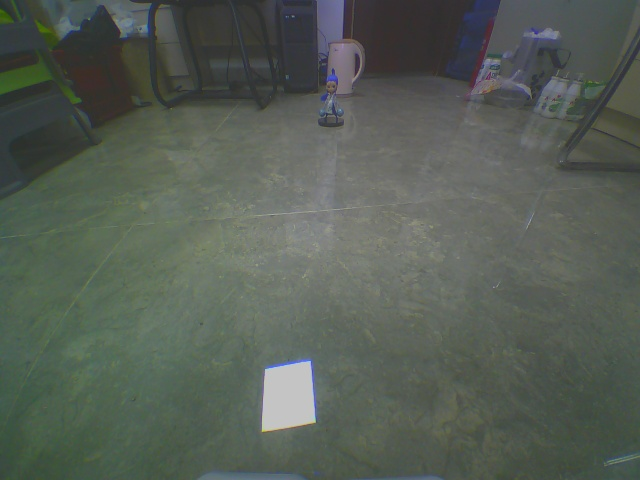Aobing: (315, 70, 356, 142)
